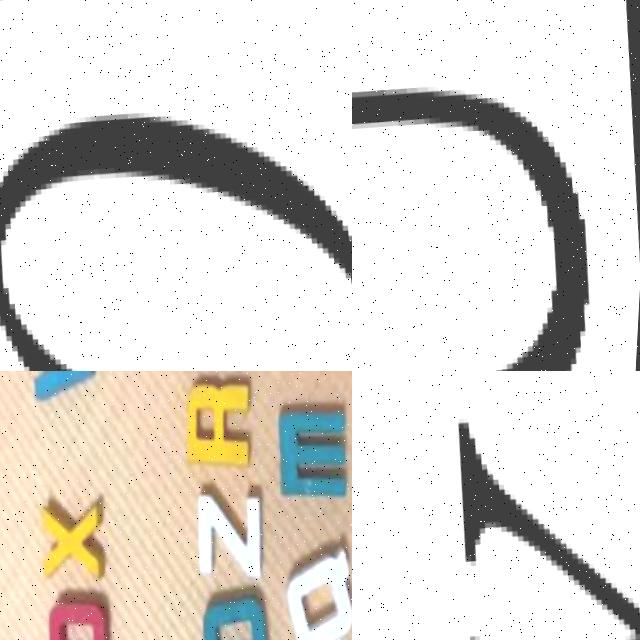D: (201, 586, 278, 640)
M: (271, 396, 352, 503)
O: (46, 585, 116, 640)
Q: (0, 63, 352, 371), (282, 544, 352, 640)
R: (182, 371, 256, 463)
U: (352, 0, 627, 371)
V: (27, 371, 102, 401)
X: (420, 373, 640, 640), (39, 492, 110, 584)
Z: (195, 486, 272, 578)
